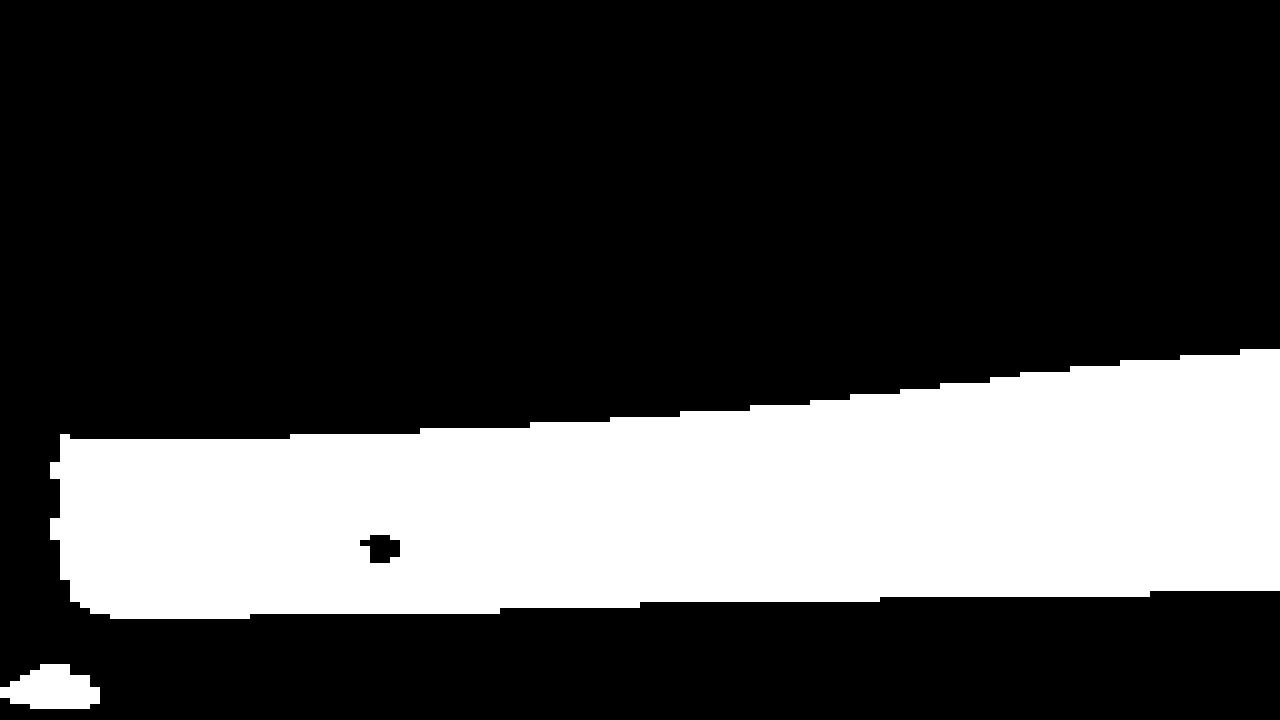Turbine: (45, 299, 1260, 638)
